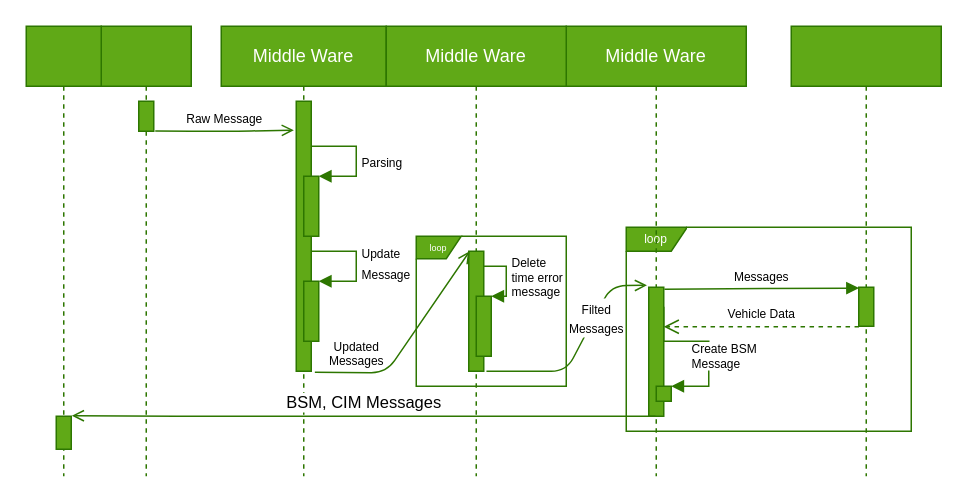
This 968x503 diagram has some shape labels left out. Each missing label, with the box of its shape:
OBU (receiver): (25, 25, 101, 476)
OBU (sender): (100, 25, 191, 476)
Vehicle: (790, 25, 941, 476)
